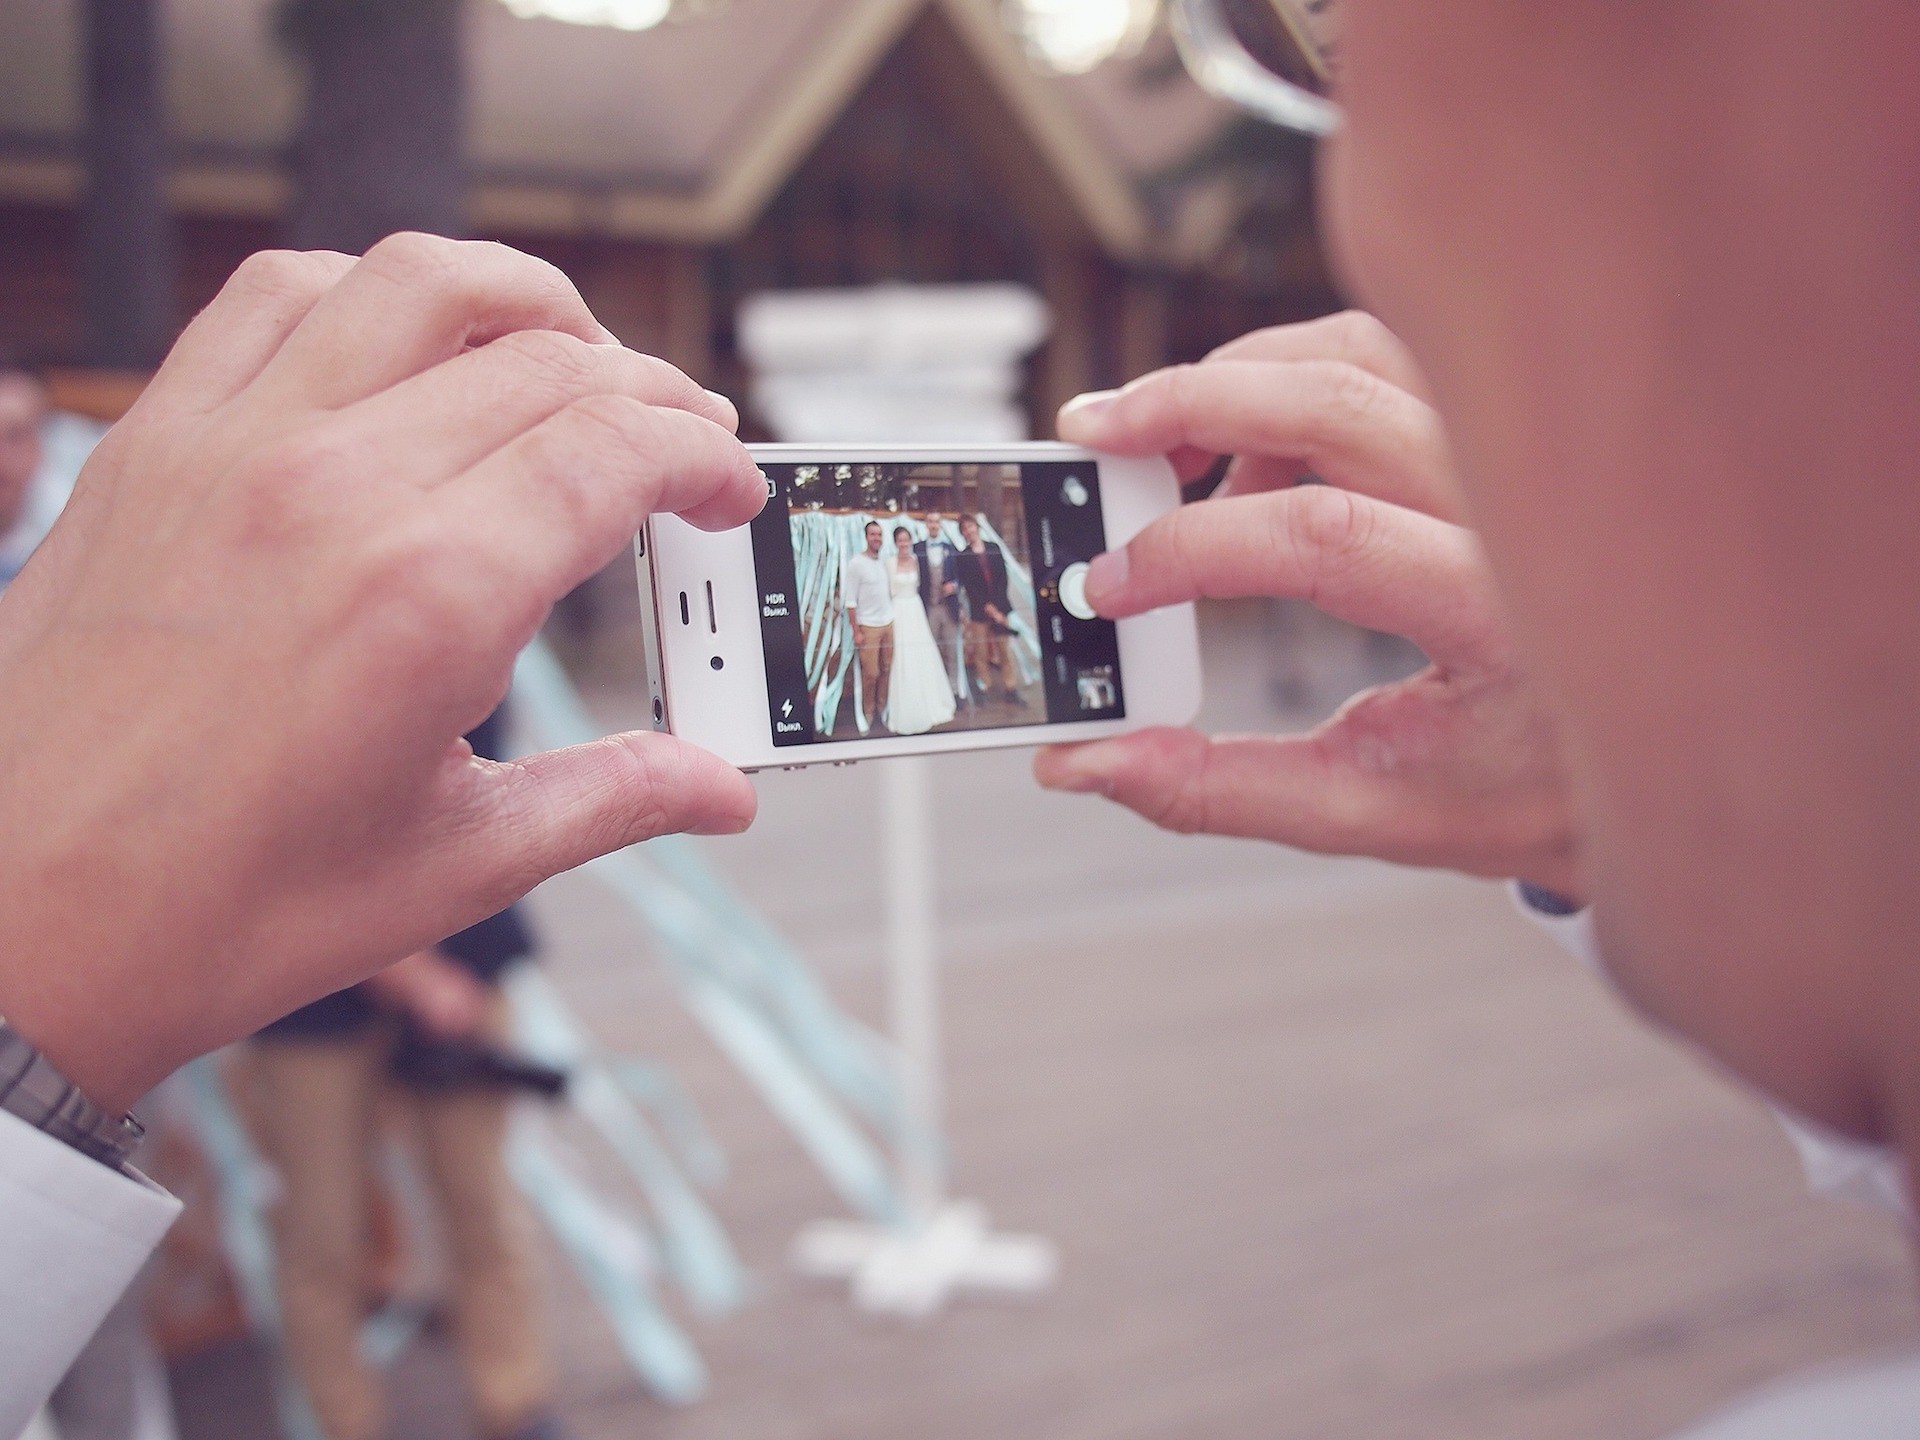smartphone: (629, 436, 1209, 776)
